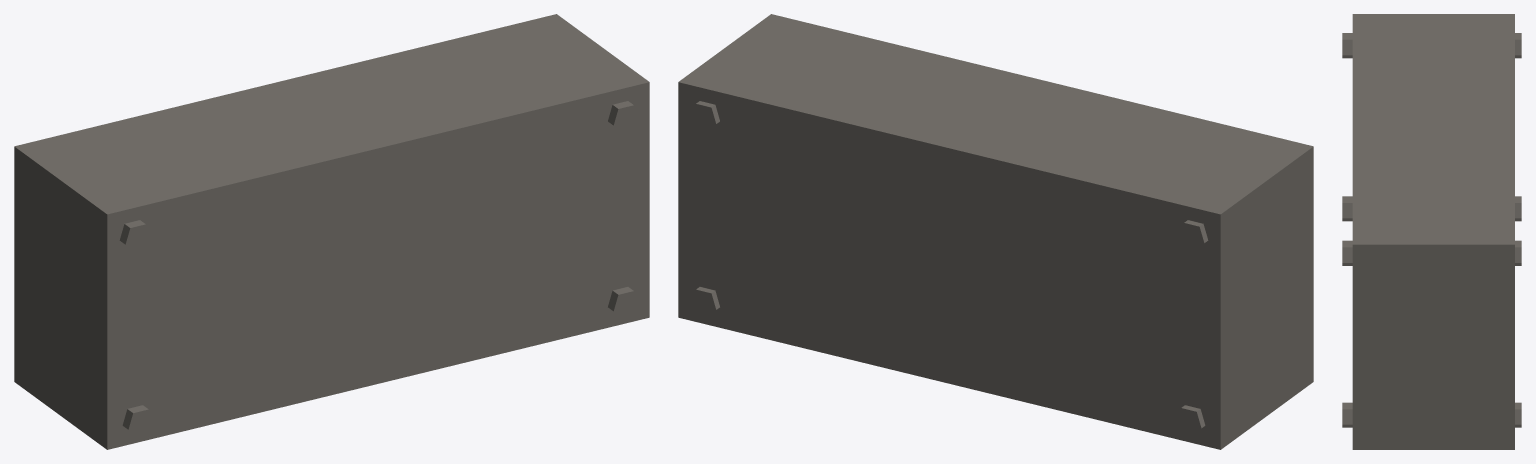
File: SM_Prop_AirDuct_Ceiling_Connection_02.obj
The picture shows the model from 3 angles, left to right: view 1: azimuth 30°, elevation 25°; view 2: azimuth 150°, elevation 25°; view 3: azimuth 270°, elevation 25°; orthographic projection. The views are drawn at different scales.
Visible parts, largest first — view 1: SM_Prop_AirDuct_Ceiling_Connection_02_0; view 2: SM_Prop_AirDuct_Ceiling_Connection_02_0; view 3: SM_Prop_AirDuct_Ceiling_Connection_02_0.
Part boxes in pixels (left/top/right/bottom): SM_Prop_AirDuct_Ceiling_Connection_02_0: left=14, top=14, right=649, bottom=449; SM_Prop_AirDuct_Ceiling_Connection_02_0: left=678, top=14, right=1313, bottom=449; SM_Prop_AirDuct_Ceiling_Connection_02_0: left=1342, top=14, right=1521, bottom=449.
Size of the model in its own units: 0.9418 by 0.3907 by 0.3093.
Materials: 1 (1 with a texture image).
